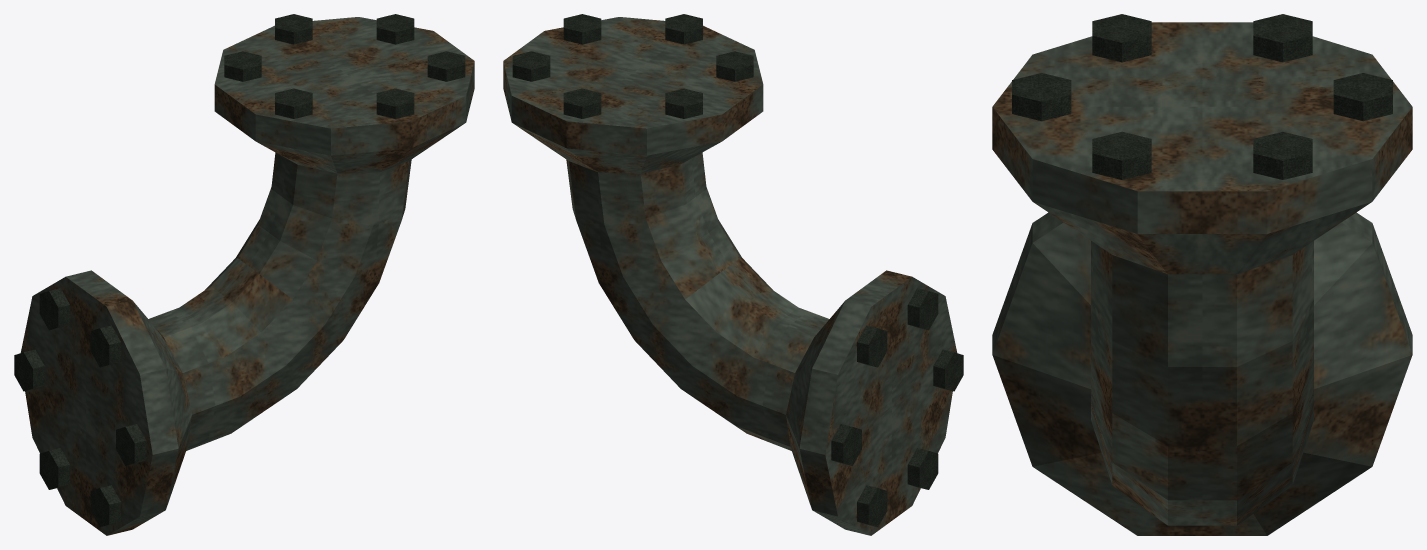
Rendered from SM_Pipe_Elbow.fbx.
3 renders of one model, left to right at view 1: azimuth 30°, elevation 25°; view 2: azimuth 150°, elevation 25°; view 3: azimuth 270°, elevation 25°, orthographic. The views are drawn at different scales.
Visible parts, largest first — view 1: SM_Pipe_Elbow; view 2: SM_Pipe_Elbow; view 3: SM_Pipe_Elbow.
Part boxes in pixels (x1=…): SM_Pipe_Elbow: x1=14, y1=14, x2=474, y2=535; SM_Pipe_Elbow: x1=503, y1=14, x2=963, y2=535; SM_Pipe_Elbow: x1=992, y1=14, x2=1412, y2=535.
Size of the model in its own units: 0.3232 by 0.3232 by 0.196.
